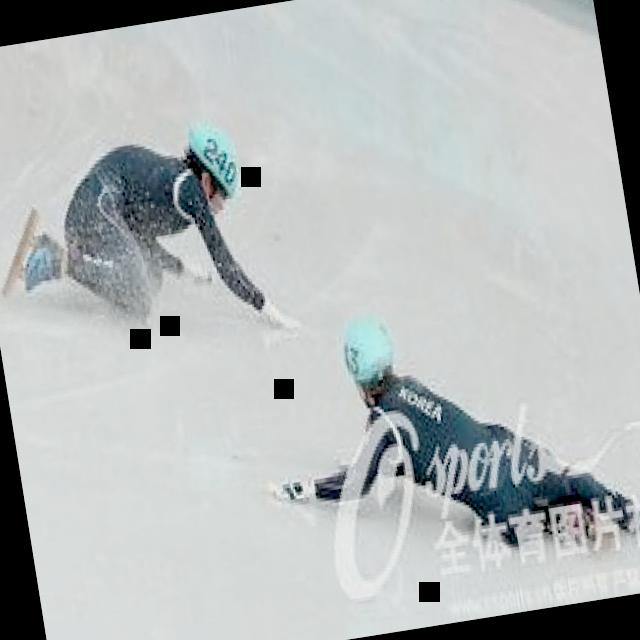Fall-Detected: (0, 85, 300, 381)
